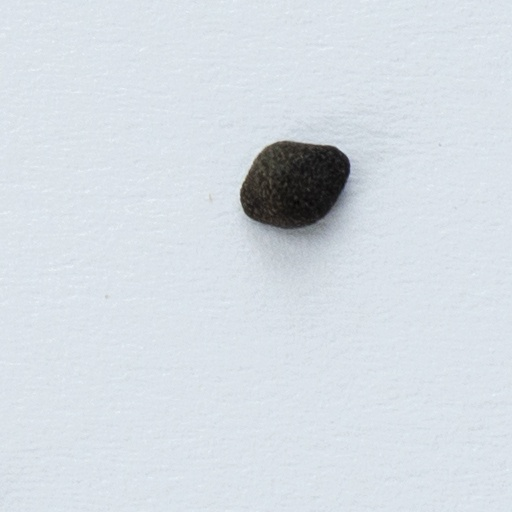Convolvulus-poly: (238, 138, 351, 231)
